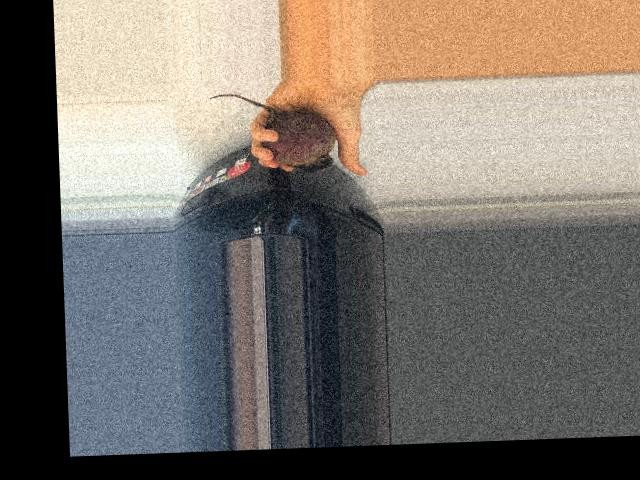beet: (208, 89, 335, 175)
